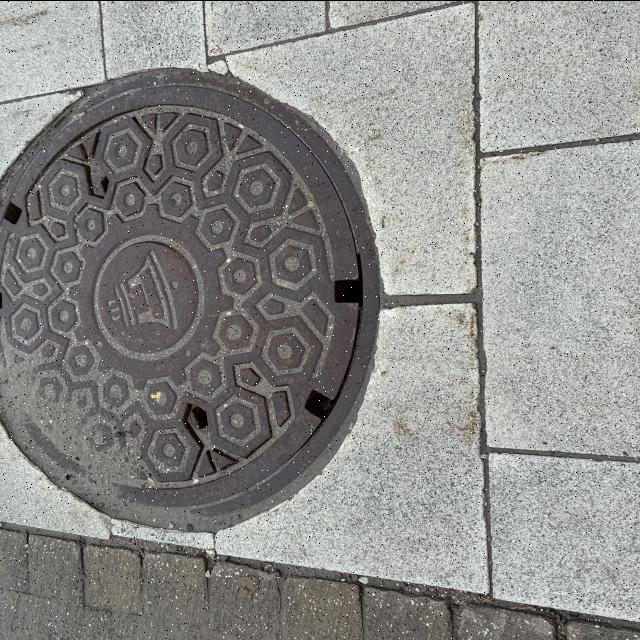Manhole: (1, 72, 386, 527)
